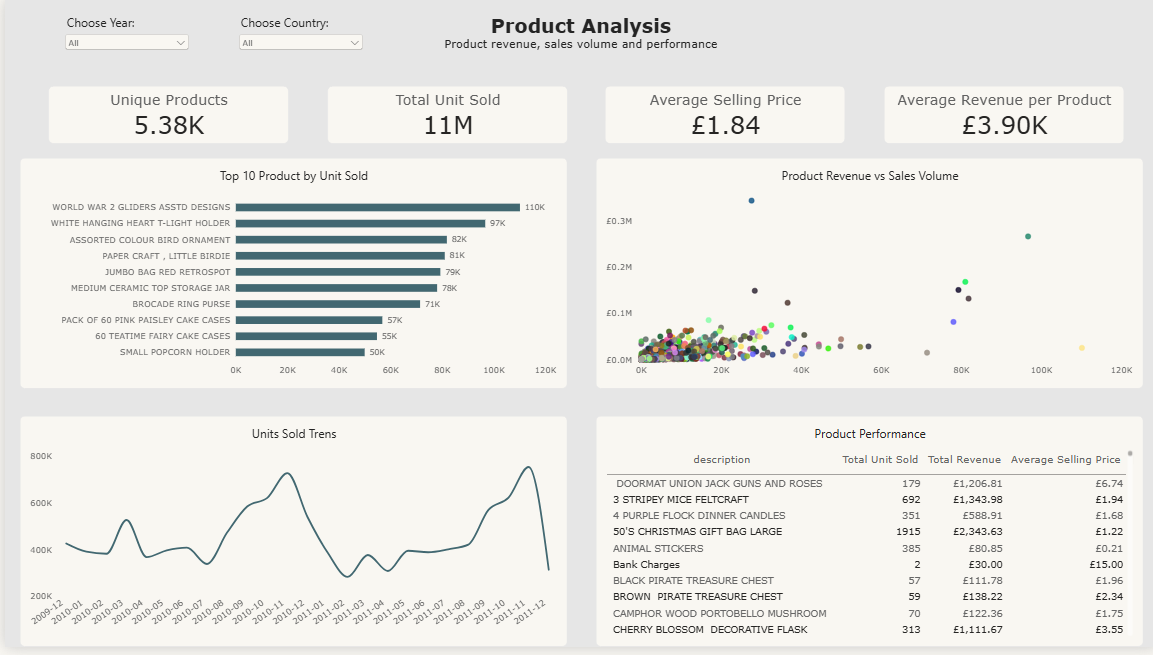

This screenshot's page, from the dashboard's own definition file:
{"tool":"powerbi","page":{"name":"Product Analysis","canvas":[1920,1080],"ordinal":2},"visuals":[{"type":"textbox","box":[0,24,1920,96],"z":0},{"type":"cardVisual","fields":{"Data":["Measures (2).Unique Products"]},"box":[72,144,400,96],"z":0,"group":"g1"},{"type":"slicer","fields":{"Values":["calendar.year"]},"box":[96,24,216,96],"z":1000},{"type":"cardVisual","fields":{"Data":["Measures (2).Average Revenue per Product"]},"box":[1464,144,400,96],"z":1000,"group":"g1"},{"type":"slicer","fields":{"Values":["retail_transactions.country"]},"box":[384,24,216,96],"z":2000},{"type":"cardVisual","fields":{"Data":["Measures (2).Average Selling Price"]},"box":[1000,144,400,96],"z":2000,"group":"g1"},{"type":"group","id":"g1","title":"Group 1","box":[72,144,1824,96],"z":3000},{"type":"cardVisual","fields":{"Data":["Measures (2).Total Unit Sold"]},"box":[536,144,400,96],"z":3000,"group":"g1"},{"type":"barChart","title":"Top 10 Product by Unit Sold","fields":{"Category":["retail_transactions.description"],"Y":["Measures (2).Total Unit Sold"]},"box":[24,264,912,384],"z":4000},{"type":"scatterChart","title":"Product Revenue vs Sales Volume","fields":{"Series":["retail_transactions.description"],"X":["Measures (2).Total Unit Sold"],"Y":["Measures (2).Total Revenue"]},"box":[984,264,912,384],"z":5000},{"type":"lineChart","title":" Units Sold Trens","fields":{"Category":["calendar.year-month"],"Y":["Measures (2).Total Unit Sold"]},"box":[24,696,912,384],"z":6000},{"type":"tableEx","title":"Product Performance","fields":{"Values":["retail_transactions.description","Measures (2).Total Unit Sold","Measures (2).Total Revenue","Measures (2).Average Selling Price"]},"box":[984,696,912,384],"z":7000}]}

Visuals, with their boxes in screenshot pixels (x1, y1, x2, y2), scaled from the page's 1920x1080 canvas onto the 1153x655 screenshot:
textbox: bbox(0, 15, 1152, 73)
cardVisual - Measures (2).Unique Products: bbox(43, 87, 283, 146)
slicer - calendar.year: bbox(58, 15, 187, 73)
cardVisual - Measures (2).Average Revenue per Product: bbox(879, 87, 1119, 146)
slicer - retail_transactions.country: bbox(231, 15, 360, 73)
cardVisual - Measures (2).Average Selling Price: bbox(601, 87, 841, 146)
"Group 1" group: bbox(43, 87, 1139, 146)
cardVisual - Measures (2).Total Unit Sold: bbox(322, 87, 562, 146)
"Top 10 Product by Unit Sold" barChart: bbox(14, 160, 562, 393)
"Product Revenue vs Sales Volume" scatterChart: bbox(591, 160, 1139, 393)
" Units Sold Trens" lineChart: bbox(14, 422, 562, 654)
"Product Performance" tableEx: bbox(591, 422, 1139, 654)
